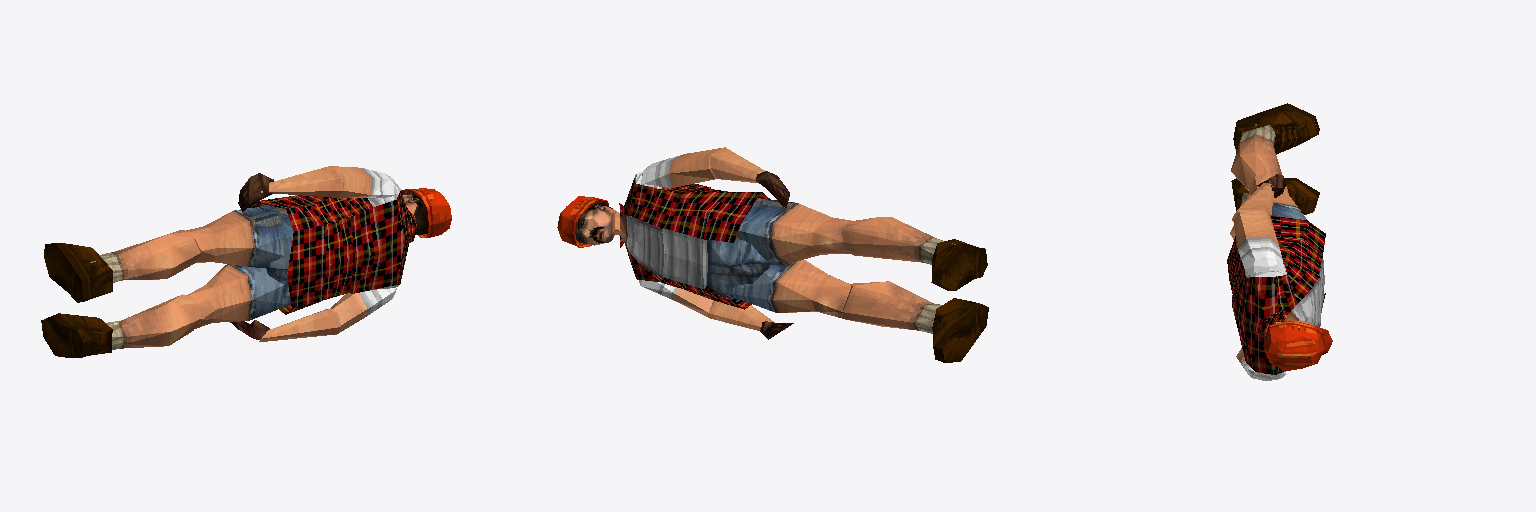
3 renders of one model, left to right at view 1: azimuth 30°, elevation 25°; view 2: azimuth 150°, elevation 25°; view 3: azimuth 270°, elevation 25°, orthographic.
Bounding box in the file's own units: 1.77 × 0.7164 × 0.4124.
1 materials, 1 textured.